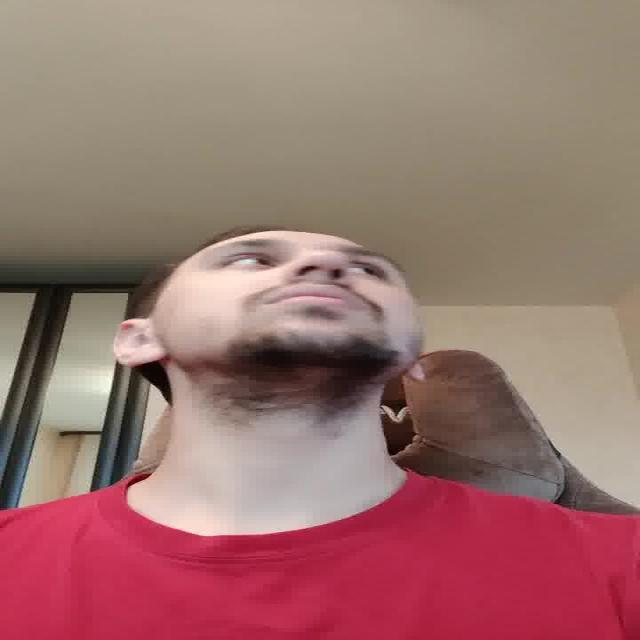earlobe: (126, 352, 167, 366), (402, 367, 428, 381)
eye: (228, 256, 276, 269), (353, 264, 392, 279)
nose: (291, 270, 349, 288)
wholeear: (114, 317, 168, 366)
